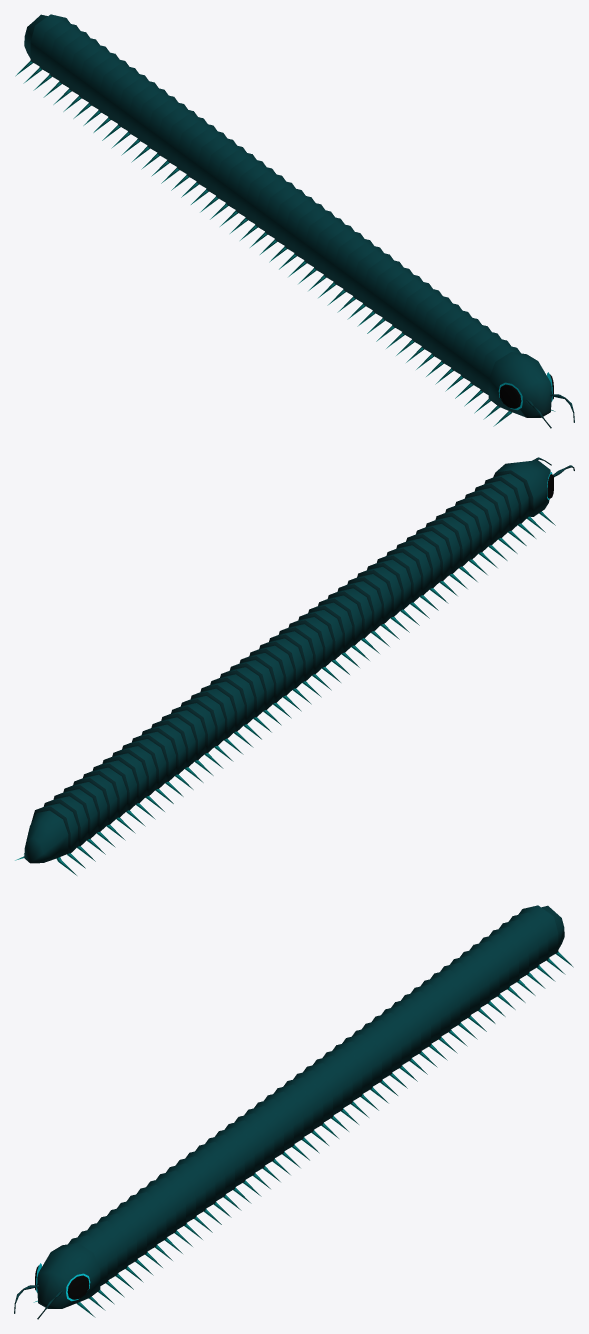
File: animals-insects-millipede_v1.fbx
The picture shows the model from 3 angles, top to bottom: view 1: azimuth 30°, elevation 25°; view 2: azimuth 150°, elevation 25°; view 3: azimuth 330°, elevation 25°; orthographic projection.
Parts seen in each view (by area): view 1: Millipede.001; view 2: Millipede.001; view 3: Millipede.001.
Part boxes in pixels (x1,y1,x2,y2): Millipede.001: [15, 14, 574, 428]; Millipede.001: [15, 457, 574, 875]; Millipede.001: [14, 905, 573, 1319].
Bounding box in the file's own units: 0.2902 × 0.2547 × 4.19.
